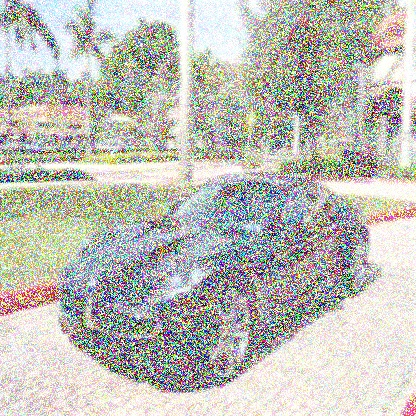Vehicle: (59, 172, 368, 392)
